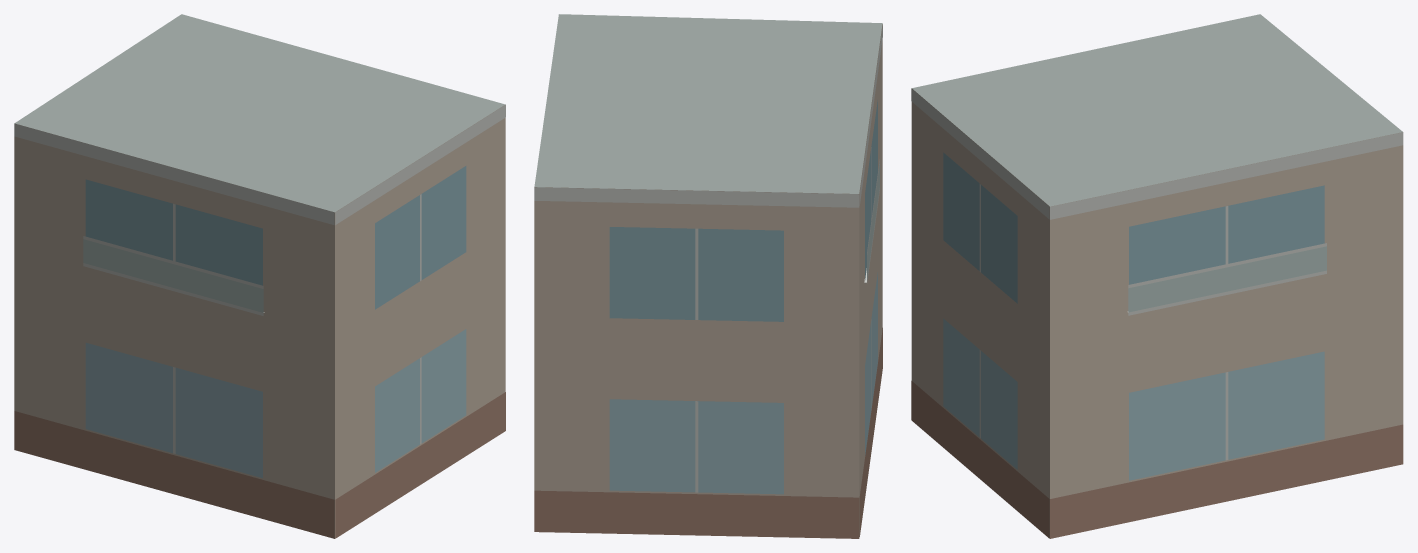
The model's file is survey-upis-32616500.glb.
3 views of the same model, side by side, from view 1: azimuth 30°, elevation 25°; view 2: azimuth 150°, elevation 25°; view 3: azimuth 270°, elevation 25° (orthographic). The views are drawn at different scales.
Parts seen in each view (by area): view 1: survey-upis-32616500.tmp; view 2: survey-upis-32616500.tmp; view 3: survey-upis-32616500.tmp.
Boxes of the visible parts, bbox=[...] form: survey-upis-32616500.tmp: bbox=[14, 14, 505, 538]; survey-upis-32616500.tmp: bbox=[534, 14, 882, 538]; survey-upis-32616500.tmp: bbox=[911, 14, 1403, 538].
Bounding box in the file's own units: 7.59 × 6.1 × 8.19.
